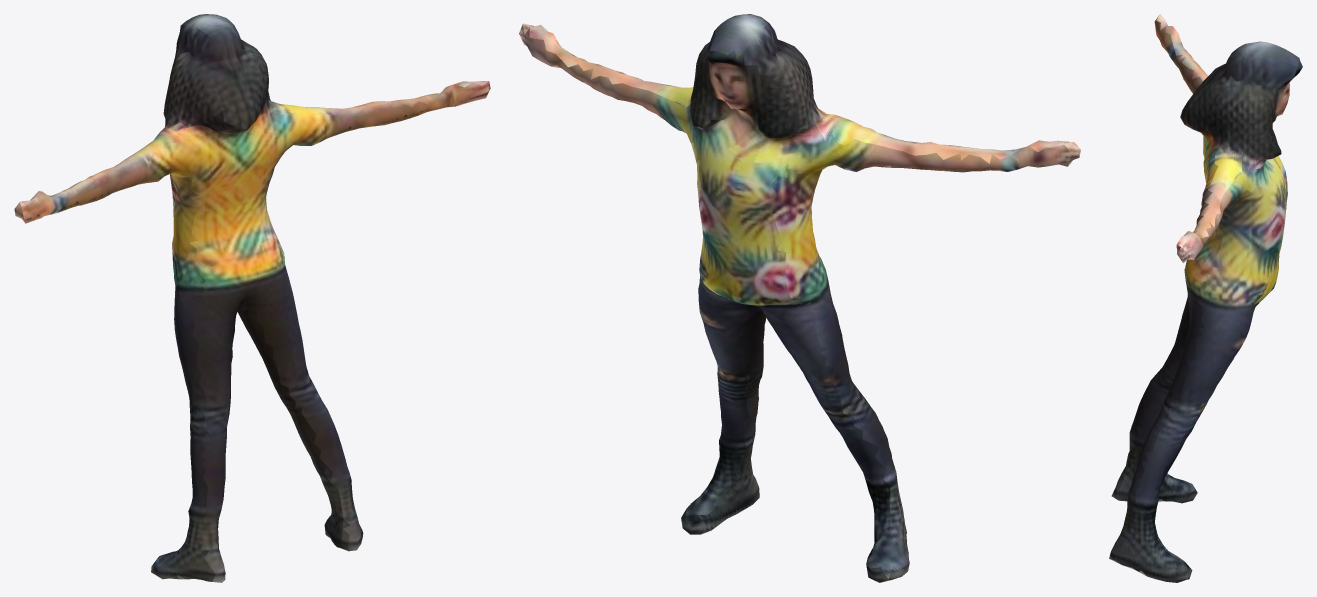
The picture shows the model from 3 angles, left to right: view 1: azimuth 30°, elevation 25°; view 2: azimuth 150°, elevation 25°; view 3: azimuth 270°, elevation 25°; orthographic projection. The views are drawn at different scales.
Visible parts, largest first — view 1: world; view 2: world; view 3: world.
Part boxes in pixels (bbox=[...]): world: bbox=[14, 14, 490, 582]; world: bbox=[519, 14, 1080, 582]; world: bbox=[1109, 14, 1302, 582].
Bounding box in the file's own units: 0.9236 × 0.9153 × 0.3249.
1 material, 1 textured.
